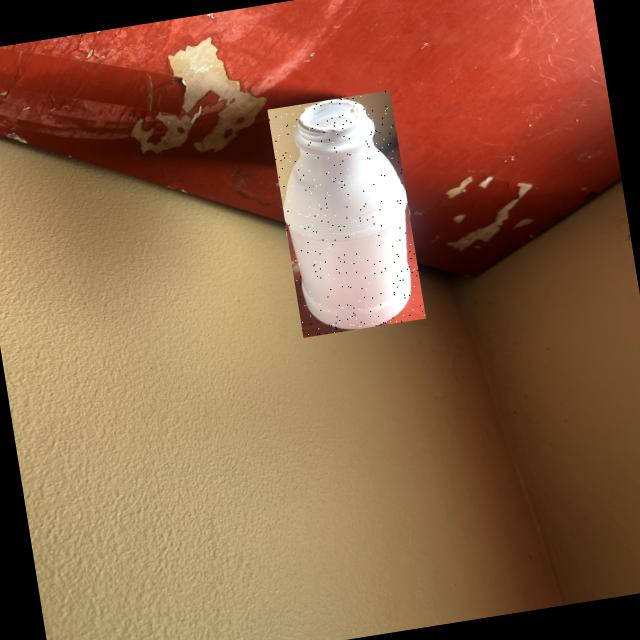HDPE_Bottle: (283, 100, 411, 329)
